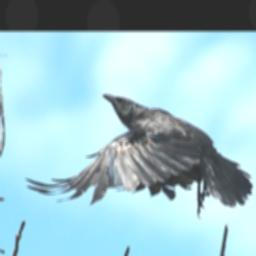Crow: (20, 91, 250, 220)
